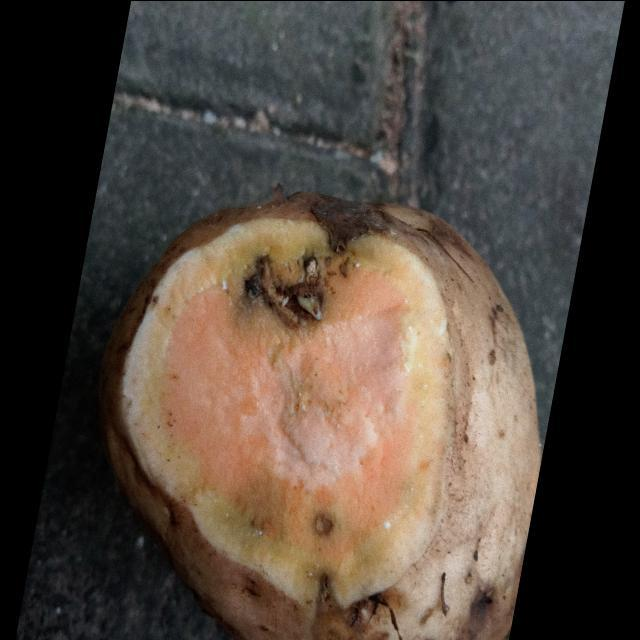Sick Sweet Potato_Tuber Rot: (122, 217, 451, 605)
